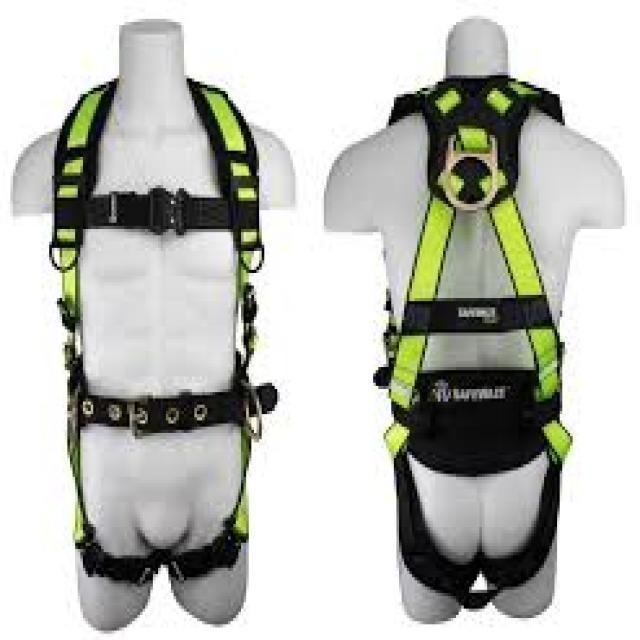Arnes_seguridad: (43, 70, 276, 580), (375, 72, 576, 509)
